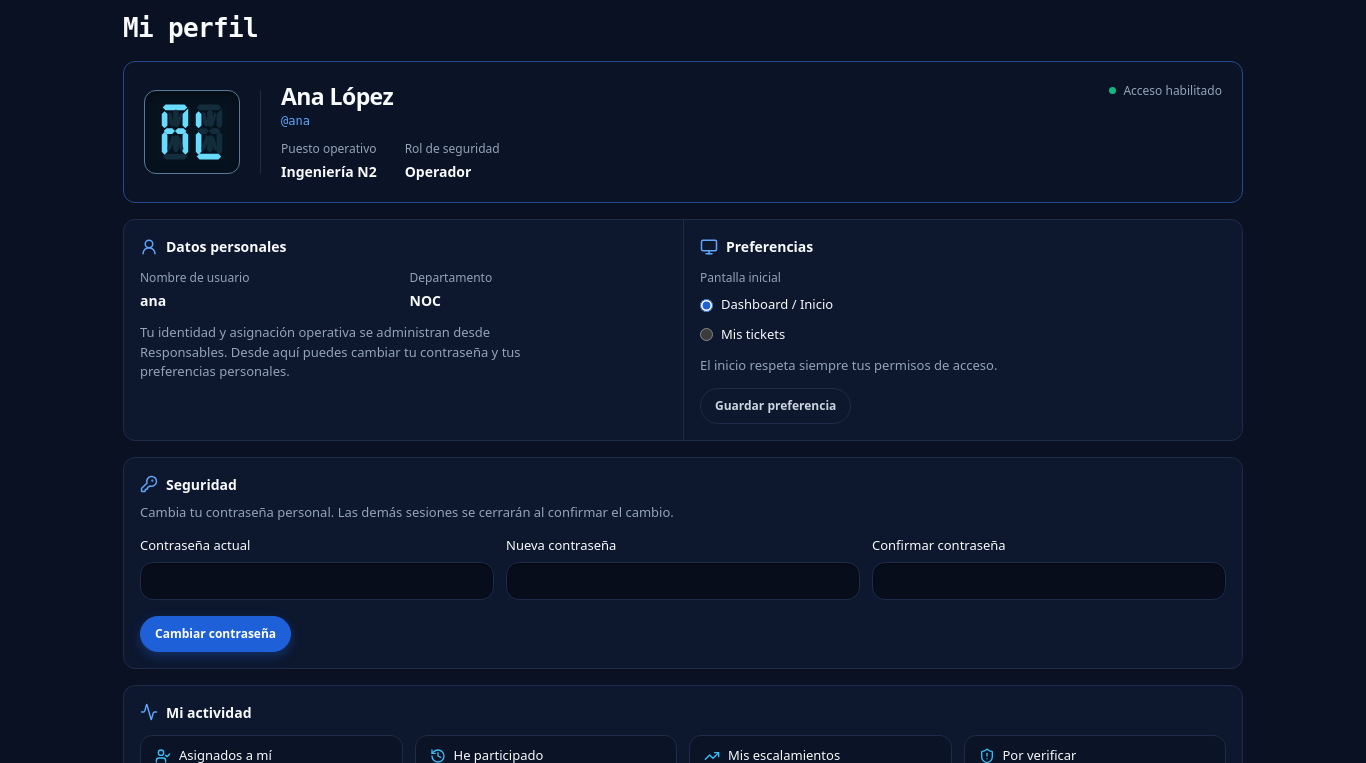
Test: Mi perfil e identidad LCD › muestra errores del cambio de contraseña sin borrar los campos ajenos
Type "test" into the password field labelled "Contraseña actual" at (317, 581), box [140,562,494,600]
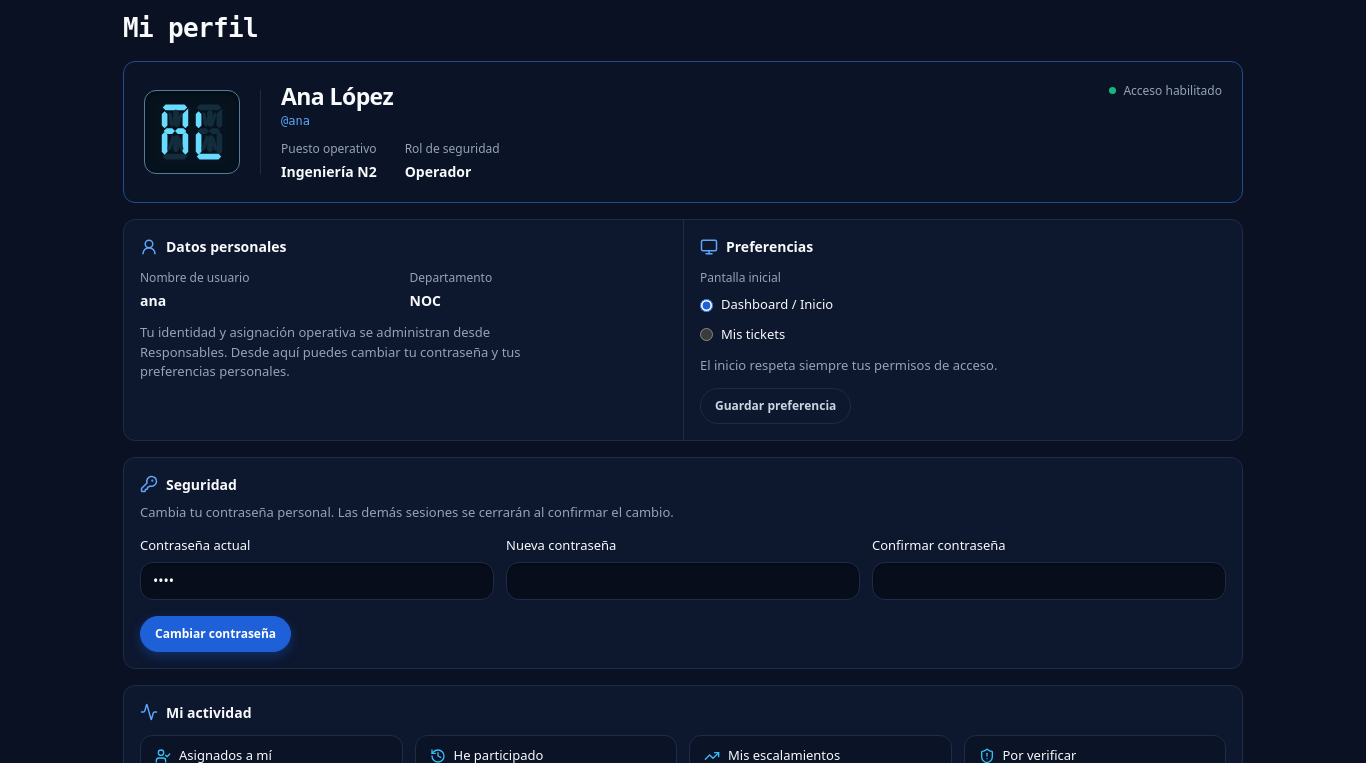
Type "test" into the password field labelled "Nueva contraseña" at (683, 581), box [506,562,860,600]
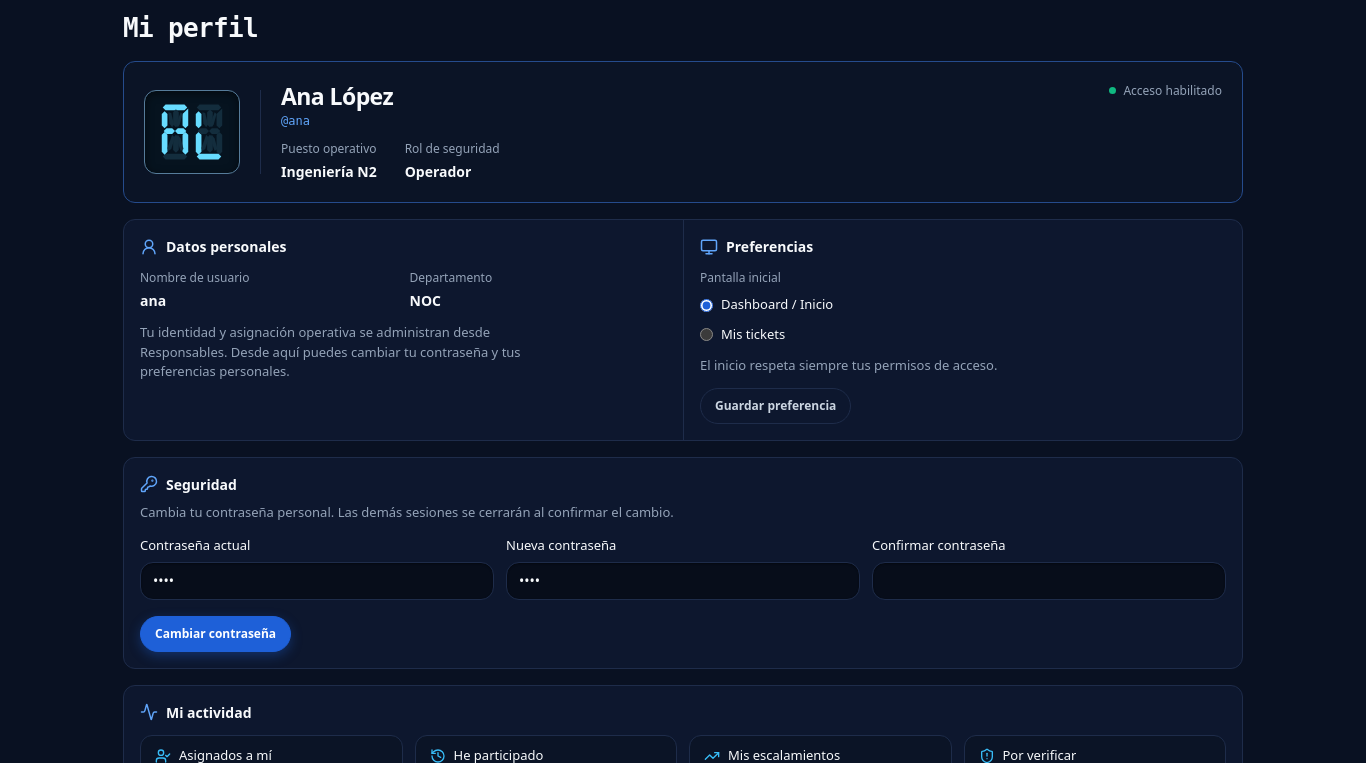
Type "test" into the password field labelled "Confirmar contraseña" at (1049, 581), box [872,562,1226,600]
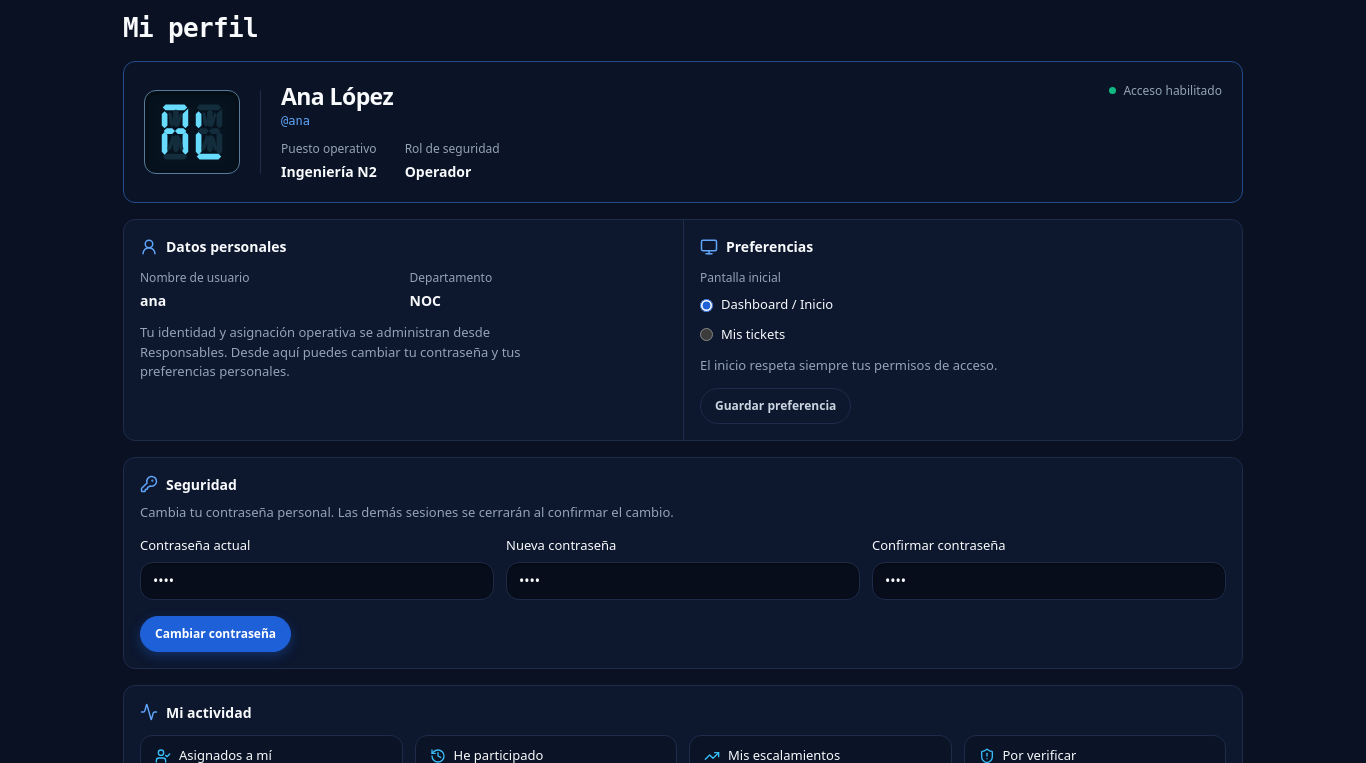
Submit the form "Cambiar contraseña", box [140,536,1226,652]
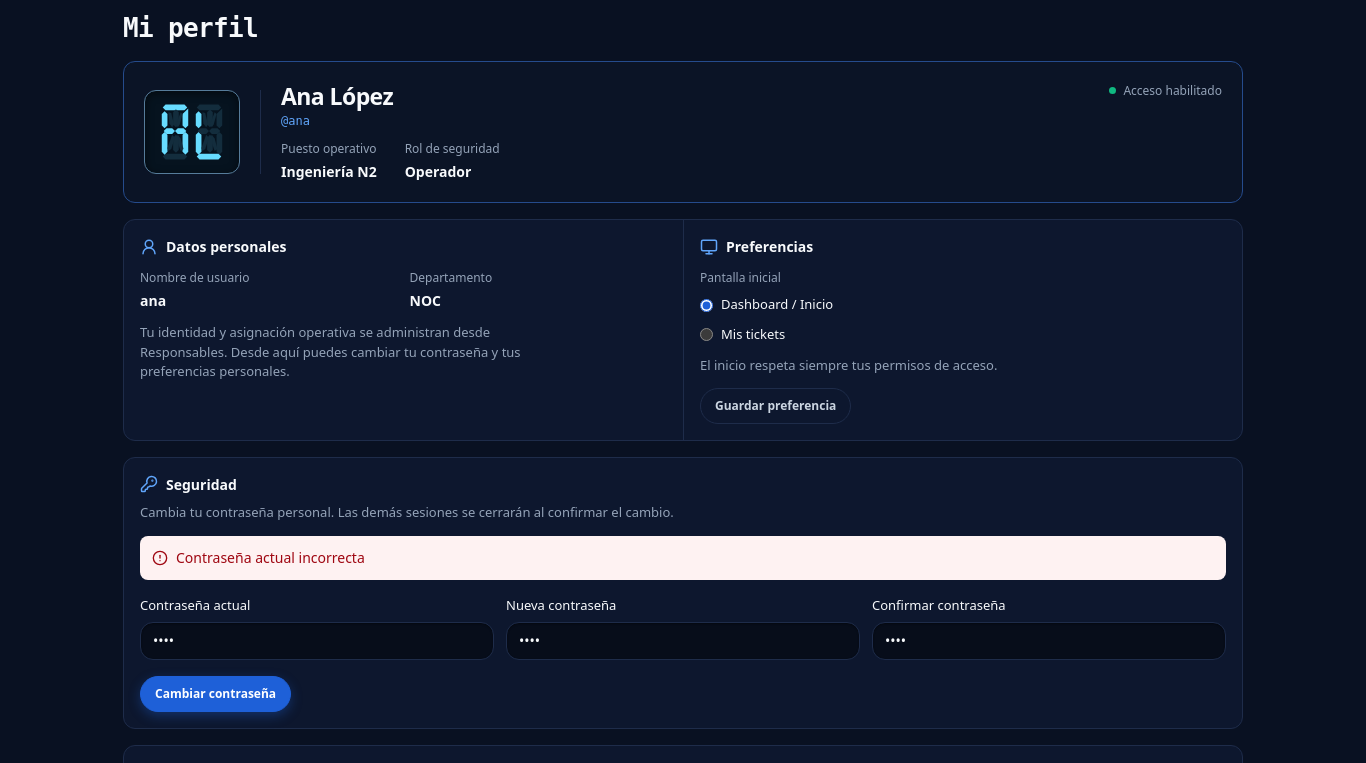
Expected: the heading "Ana López" is shown, [281,80,393,112]
Result: the message reads "Contraseña actual incorrecta" at [176,548,365,567]
